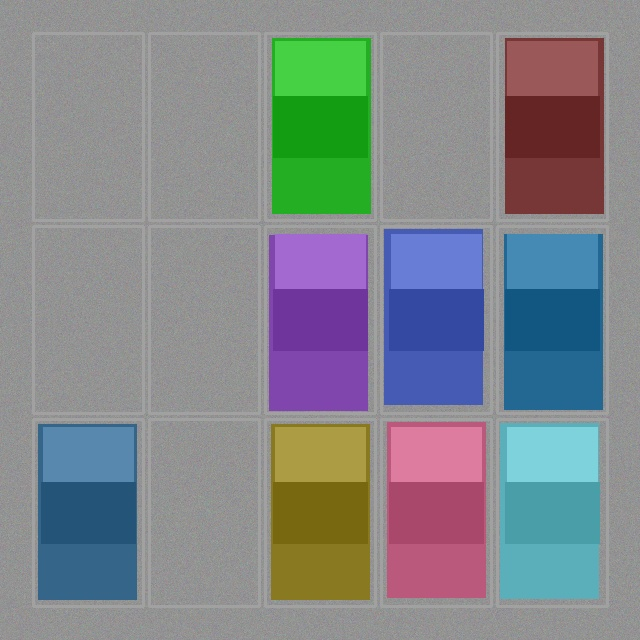space-empty: (35, 35, 141, 218), (151, 35, 257, 218), (383, 35, 489, 218), (35, 228, 141, 411), (151, 228, 257, 411), (151, 421, 257, 604)
space-occupied: (267, 35, 373, 218), (499, 35, 605, 218), (267, 228, 373, 411), (383, 228, 489, 411), (499, 228, 605, 411), (35, 421, 141, 604), (267, 421, 373, 604), (383, 421, 489, 604), (499, 421, 605, 604)
